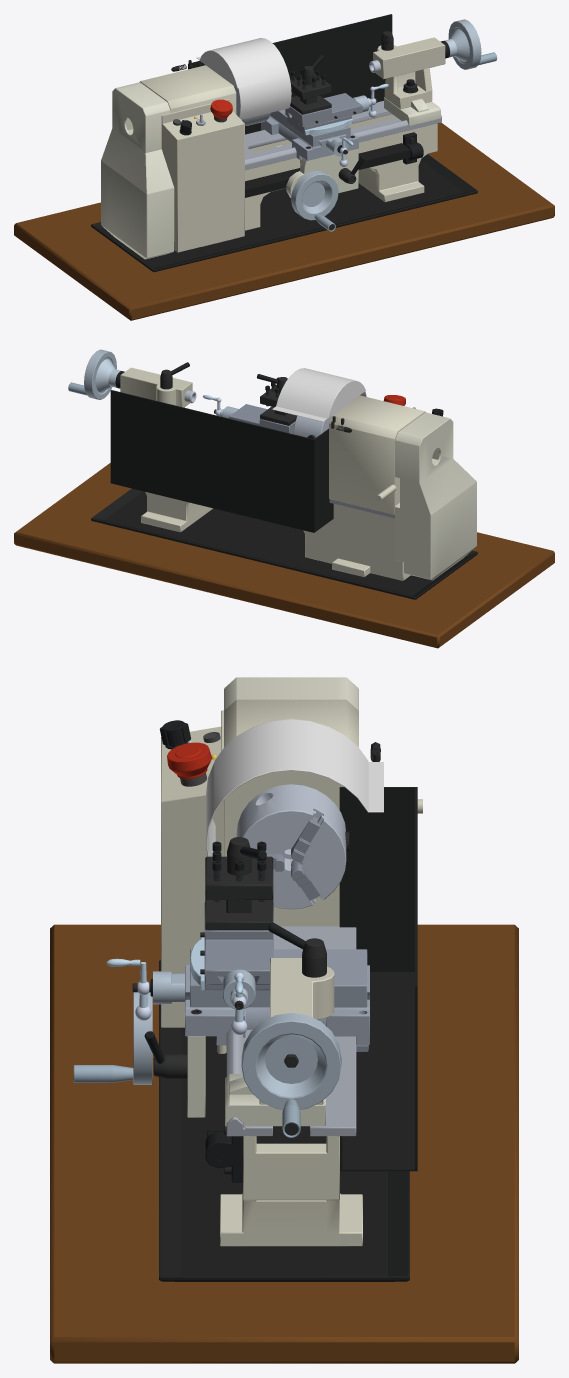
Rendered from токарный.fbx.
3 renders of one model, top to bottom at view 1: azimuth 30°, elevation 25°; view 2: azimuth 150°, elevation 25°; view 3: azimuth 270°, elevation 25°, orthographic. The views are drawn at different scales.
Visible parts, largest first — view 1: Cube.036, Cube.005, Cube.004, Cube.008, Cube.028, Cube, Cylinder.037, Cube.003, направляющая станины нев, Cube.020, Cylinder.020, Cube.007 (+11 smaller); view 2: Cube.036, Cube.028, Cube.005, Cube.008, Cube.003, Cube, Cylinder.037, Cube.020, Cylinder.012, Cube.014, Cylinder.009, Cylinder.011 (+1 smaller); view 3: Cube.036, Cube.028, Cube.008, Cube, Cube.004, Cylinder.037, Cylinder.009, Cube.003, Cylinder.012, направляющая станины нев, каретка, Cube.012 (+15 smaller).
Boxes of the visible parts, bbox=[...] form: Cube.036: bbox=[14, 122, 554, 320]; Cube.005: bbox=[101, 82, 174, 259]; Cube.004: bbox=[161, 99, 244, 252]; Cube.008: bbox=[91, 154, 477, 272]; Cube.028: bbox=[188, 14, 392, 134]; Cube: bbox=[202, 114, 437, 246]; Cylinder.037: bbox=[196, 38, 291, 119]; Cube.003: bbox=[139, 65, 236, 113]; направляющая станины нев: bbox=[245, 101, 441, 170]; Cube.020: bbox=[373, 37, 445, 79]; Cylinder.020: bbox=[291, 171, 338, 220]; Cube.007: bbox=[245, 143, 410, 197]; Cube.036: bbox=[14, 463, 554, 648]; Cube.028: bbox=[110, 390, 333, 532]; Cube.005: bbox=[395, 412, 476, 580]; Cube.008: bbox=[91, 488, 477, 599]; Cube.003: bbox=[329, 395, 425, 514]; Cube: bbox=[141, 492, 410, 580]; Cylinder.037: bbox=[272, 368, 366, 421]; Cube.020: bbox=[120, 367, 192, 407]; Cylinder.012: bbox=[84, 349, 116, 399]; Cube.014: bbox=[229, 404, 295, 433]; Cylinder.009: bbox=[293, 416, 331, 437]; Cylinder.011: bbox=[95, 359, 120, 392]; Cube.036: bbox=[50, 924, 518, 1363]; Cube.028: bbox=[339, 787, 417, 1171]; Cube.008: bbox=[159, 960, 409, 1281]; Cube: bbox=[220, 1136, 362, 1246]; Cube.004: bbox=[161, 710, 223, 1027]; Cylinder.037: bbox=[206, 719, 383, 856]; Cylinder.009: bbox=[236, 784, 346, 909]; Cube.003: bbox=[224, 699, 358, 926]; Cylinder.012: bbox=[241, 1013, 341, 1109]; направляющая станины нев: bbox=[226, 926, 356, 1136]; каретка: bbox=[185, 965, 369, 1045]; Cube.012: bbox=[190, 949, 367, 1007].
Size of the model in its own units: 707 by 298 by 337.
